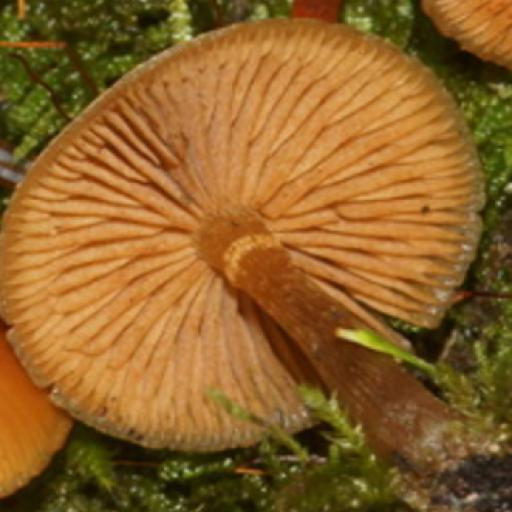mushroom: (7, 15, 486, 453)
